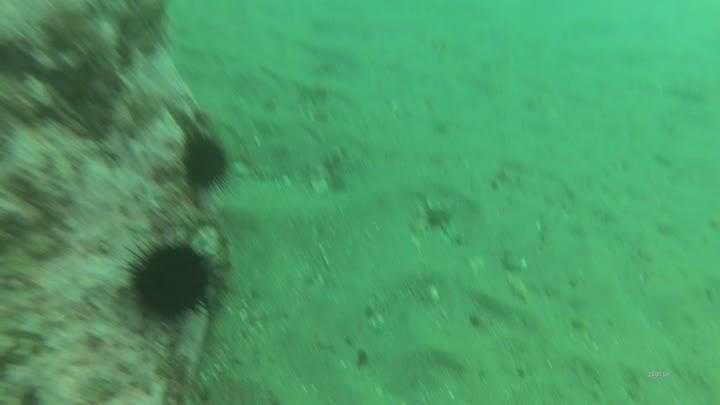echinus: (122, 234, 219, 327), (177, 128, 235, 196)
